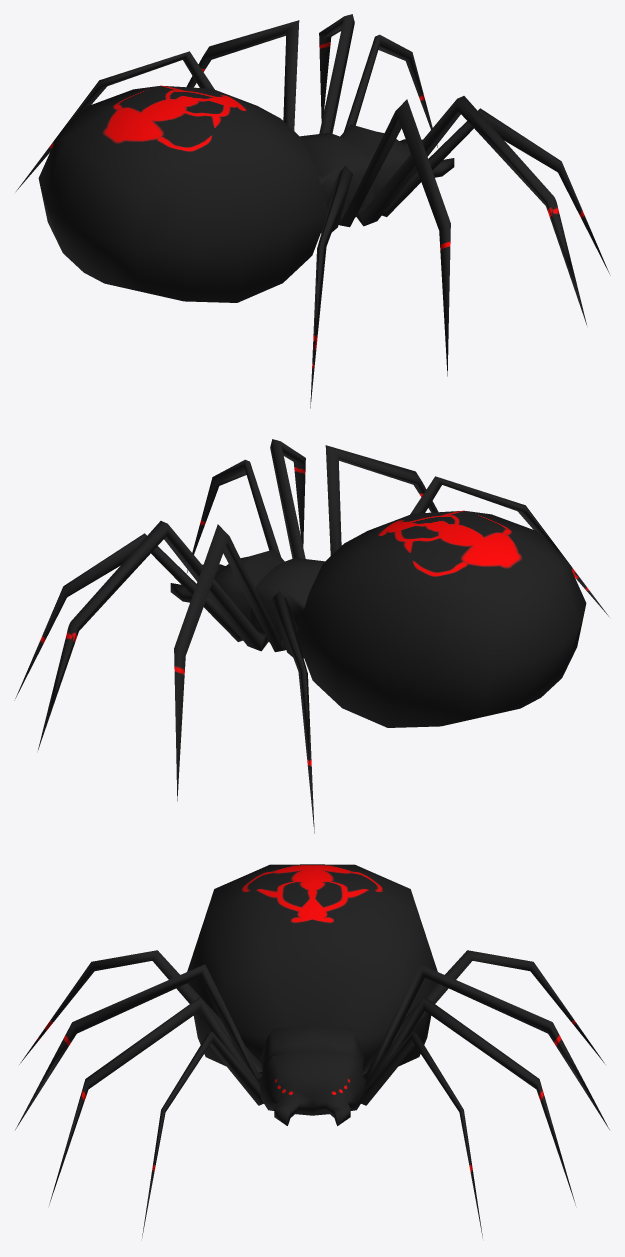
Rendered from spider-alldone.fbx.
The picture shows the model from 3 angles, top to bottom: view 1: azimuth 30°, elevation 25°; view 2: azimuth 150°, elevation 25°; view 3: azimuth 270°, elevation 25°; orthographic projection.
Parts seen in each view (by area): view 1: spider_obj_01_uvdone:pCube3; view 2: spider_obj_01_uvdone:pCube3; view 3: spider_obj_01_uvdone:pCube3.
Part boxes in pixels (box(x1,y1,x2,y2)): spider_obj_01_uvdone:pCube3: box(16, 14, 610, 408); spider_obj_01_uvdone:pCube3: box(14, 439, 608, 833); spider_obj_01_uvdone:pCube3: box(15, 864, 609, 1237).
Bounding box in the file's own units: 18.46 × 7.49 × 20.67.
